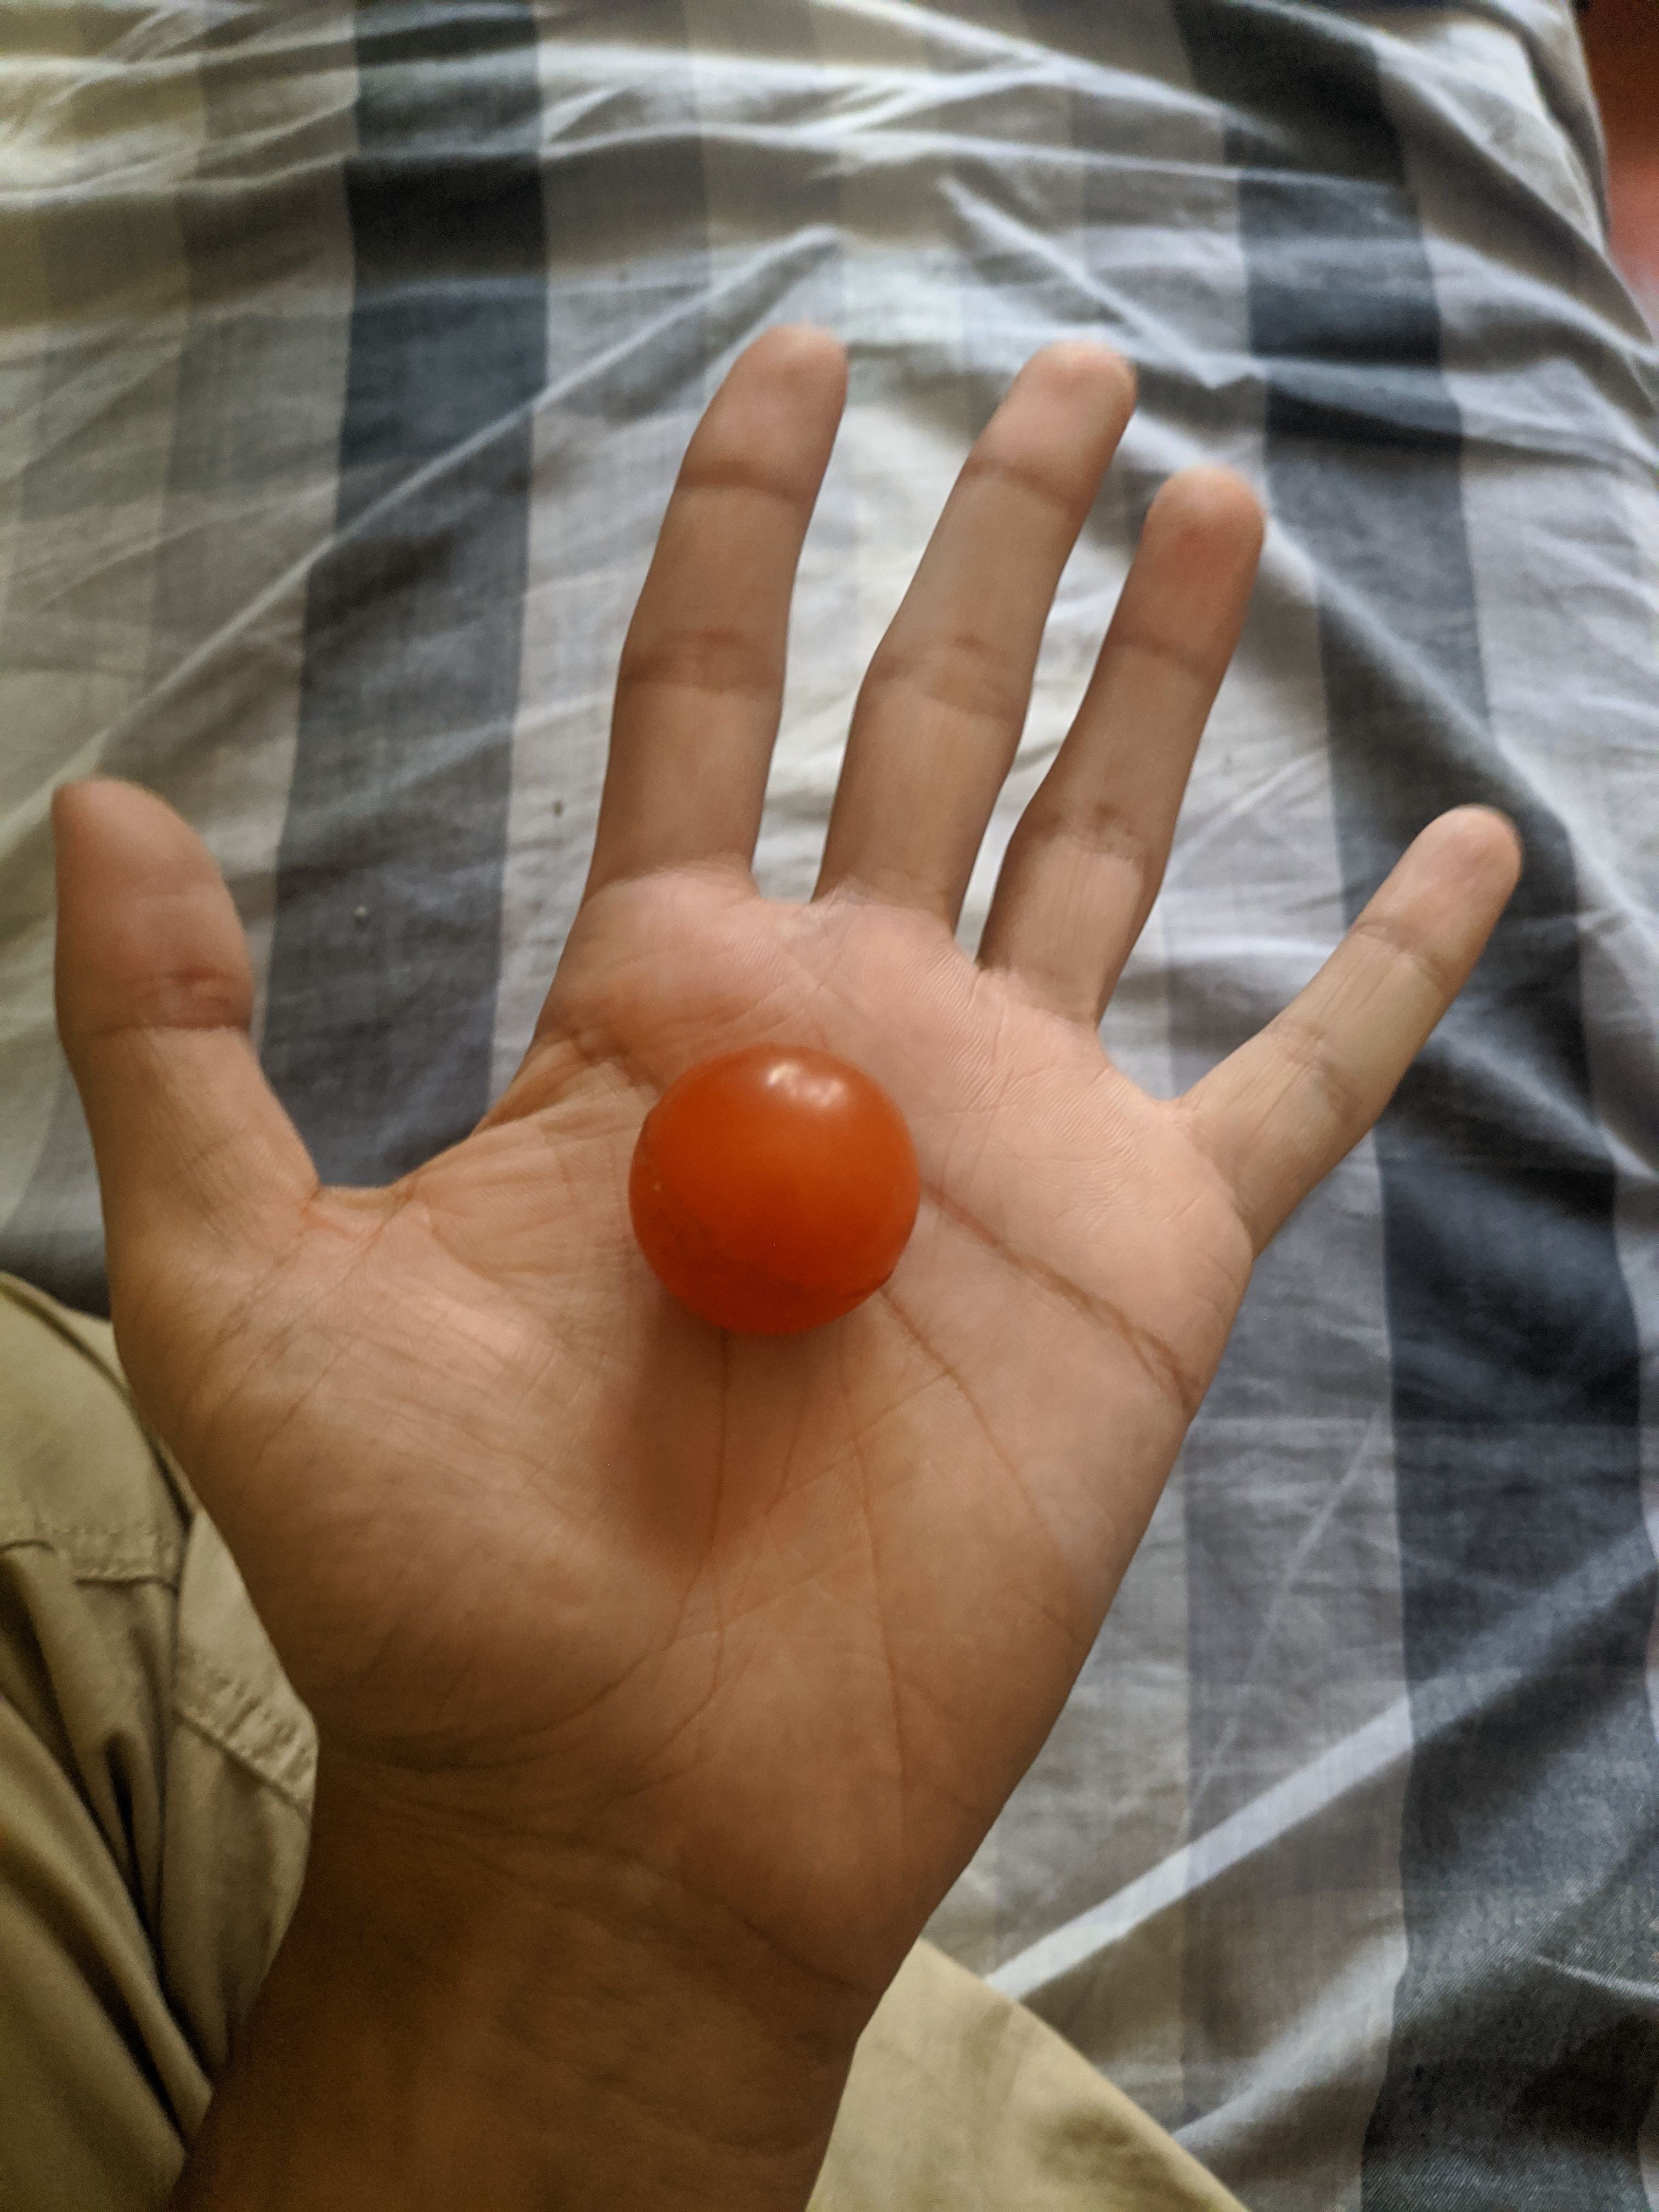red_ball: (606, 1014, 929, 1346)
